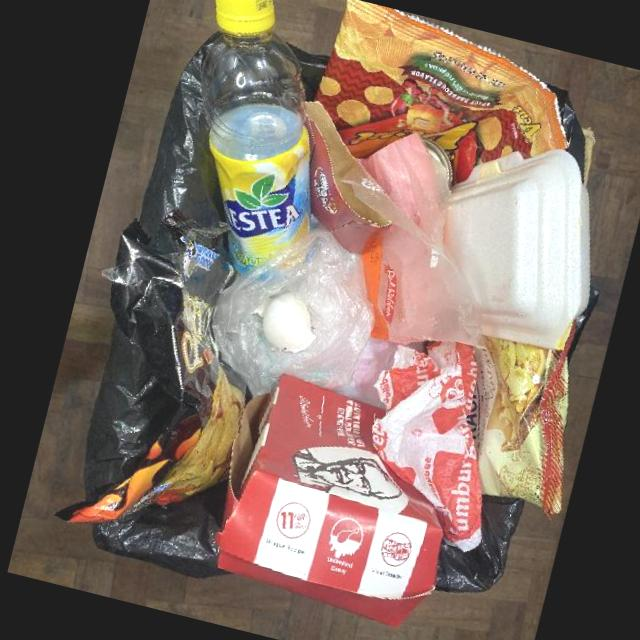bao_bi_thuc_pham: (54, 207, 246, 524), (313, 0, 567, 182), (339, 132, 487, 350), (467, 319, 576, 516)
carton: (213, 373, 442, 628)
chai_nhua_pet: (202, 0, 311, 284)
giay: (371, 342, 483, 552), (303, 101, 392, 254)
tui_ni_long: (210, 229, 375, 396)
vo_trung: (261, 290, 316, 352)
xop: (442, 149, 590, 350)
